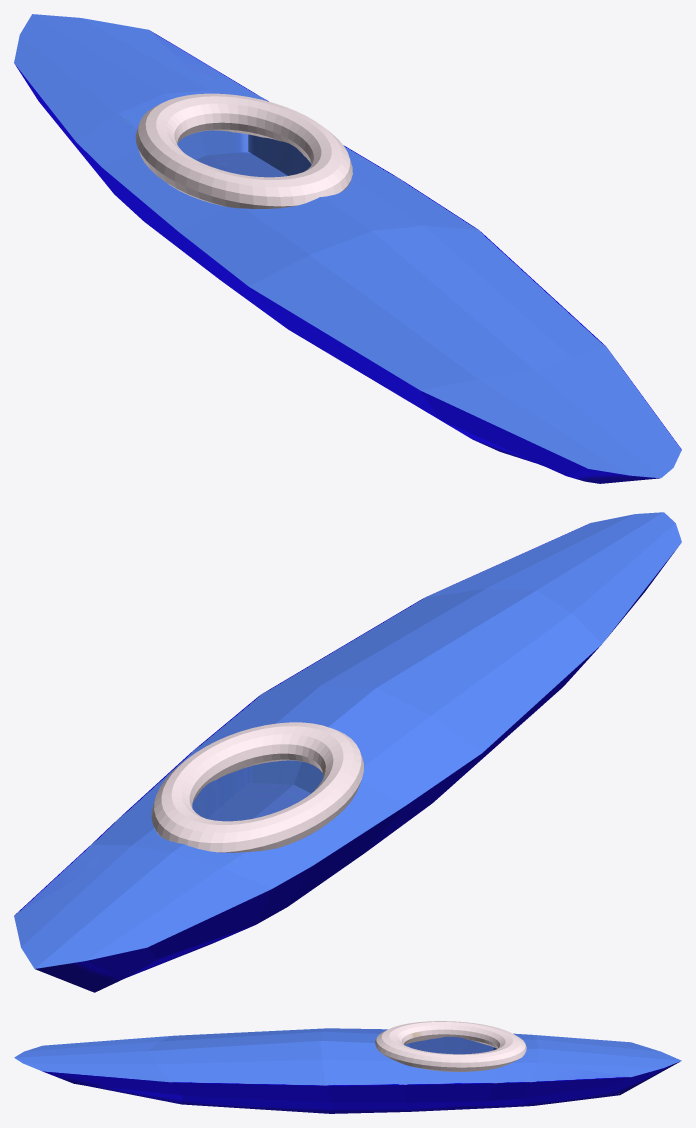
Rendered from Kayak_prefab.fbx.
3 views of the same model, one above another, from view 1: azimuth 30°, elevation 25°; view 2: azimuth 150°, elevation 25°; view 3: azimuth 270°, elevation 25° (orthographic). The views are drawn at different scales.
Parts seen in each view (by area): view 1: Kayak, Aro; view 2: Kayak, Aro; view 3: Kayak, Aro.
Boxes of the visible parts, box(x1,y1,x2,y2) form: Kayak: box(14, 14, 681, 483); Aro: box(135, 93, 352, 208); Kayak: box(14, 512, 681, 992); Aro: box(151, 722, 363, 852); Kayak: box(14, 1028, 681, 1113); Aro: box(375, 1021, 526, 1071).
Bounding box in the file's own units: 2.15 × 1.32 × 10.35.
Materials: 2 (2 with a texture image).
